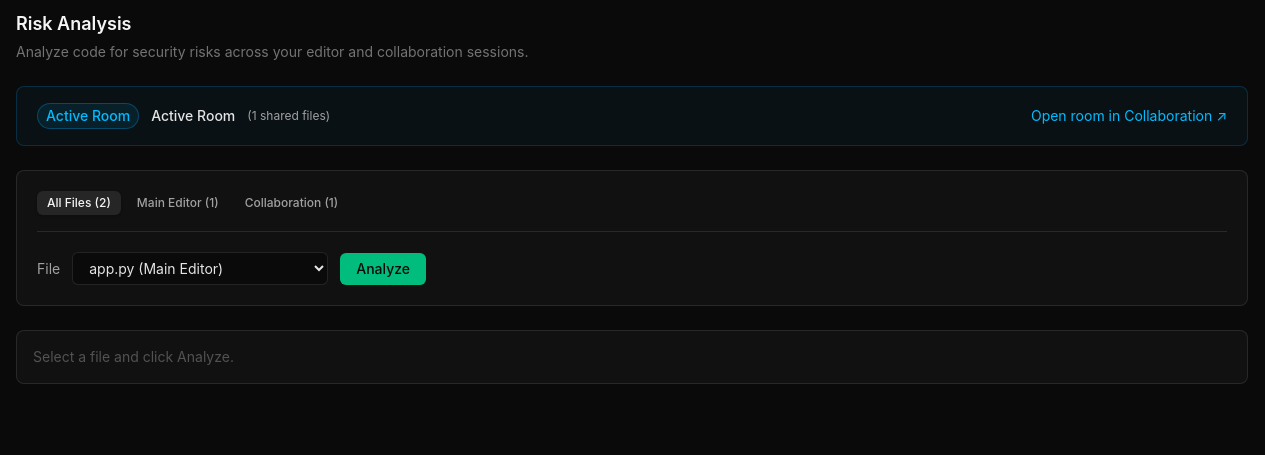
Scenario: RiskAnalysisPage - Main Editor and Collaboration files › handles unavailable / deleted collaboration files with a clear error
Select "deleted.py (Collaboration)" in the dropdown labelled "File". click: coordinates (200, 268)
box: [72,252,328,285]
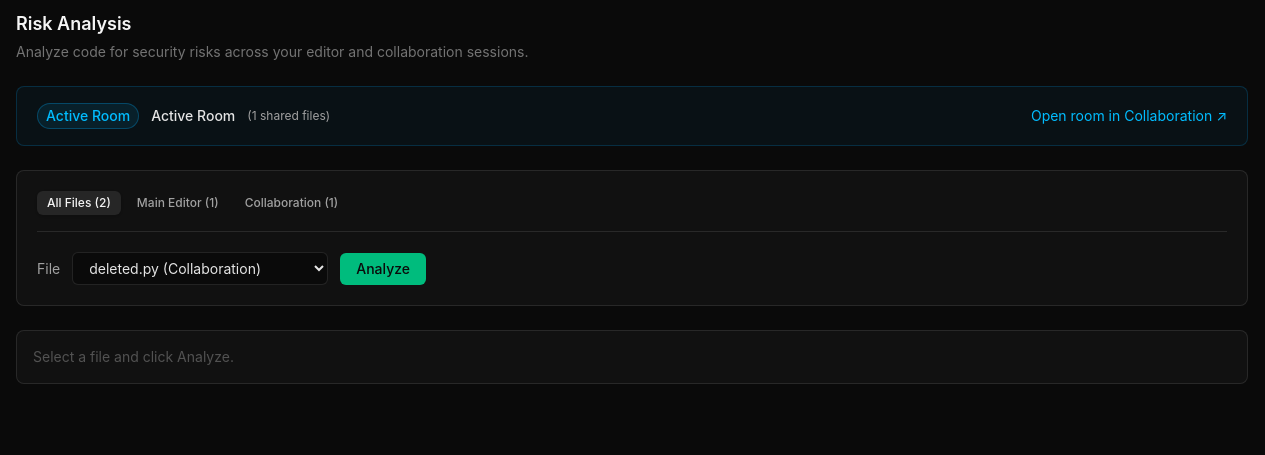
Click the button "Analyze". click: coordinates (383, 268)
box: [340,252,426,284]
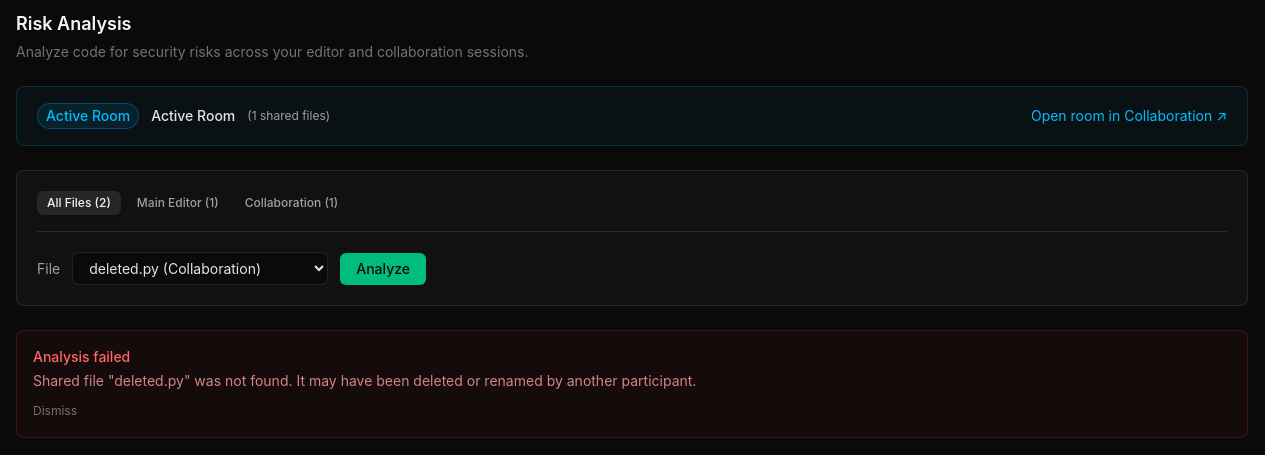
Expected: the text "Shared file \"deleted.py\" was not found" is shown, [33,372,696,389]
